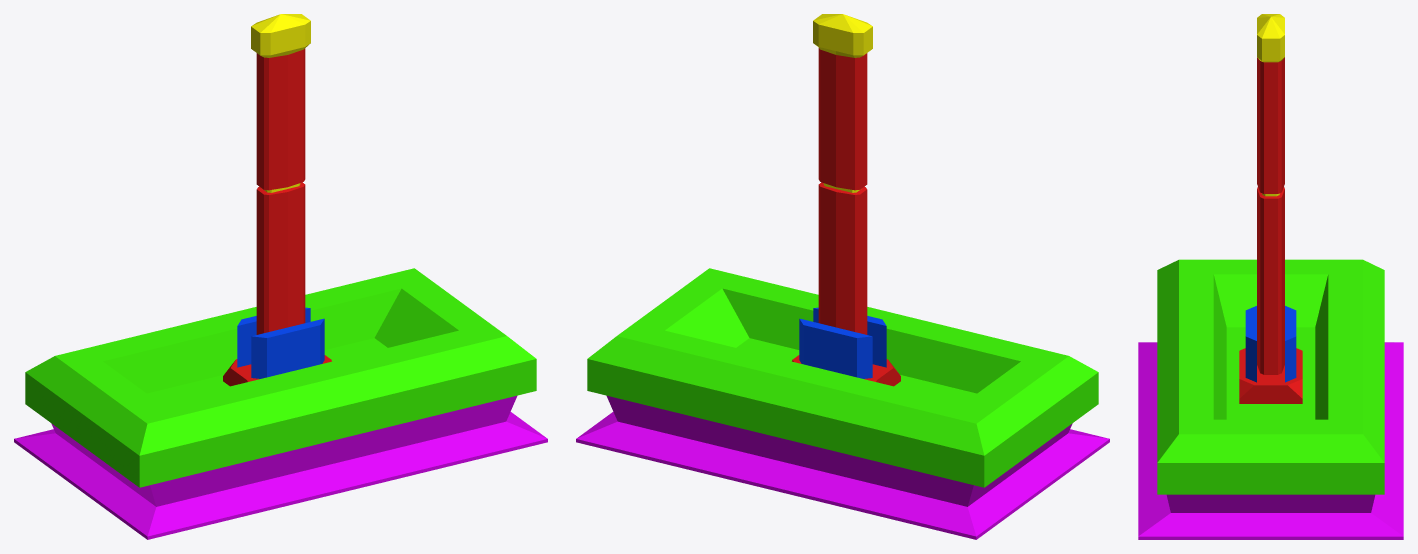
Rendered from Lever1.fbx.
The picture shows the model from 3 angles, left to right: view 1: azimuth 30°, elevation 25°; view 2: azimuth 150°, elevation 25°; view 3: azimuth 270°, elevation 25°; orthographic projection.
Visible parts, largest first — view 1: Lever, Lever Handle; view 2: Lever, Lever Handle; view 3: Lever, Lever Handle.
Boxes of the visible parts, x1,y1,x2,y2 form: Lever: (14,268,547,539); Lever Handle: (251,14,310,334); Lever: (576,268,1109,539); Lever Handle: (813,14,872,334); Lever: (1138,259,1403,539); Lever Handle: (1257,14,1284,374).
Bounding box in the file's own units: 405 × 414 × 234.
